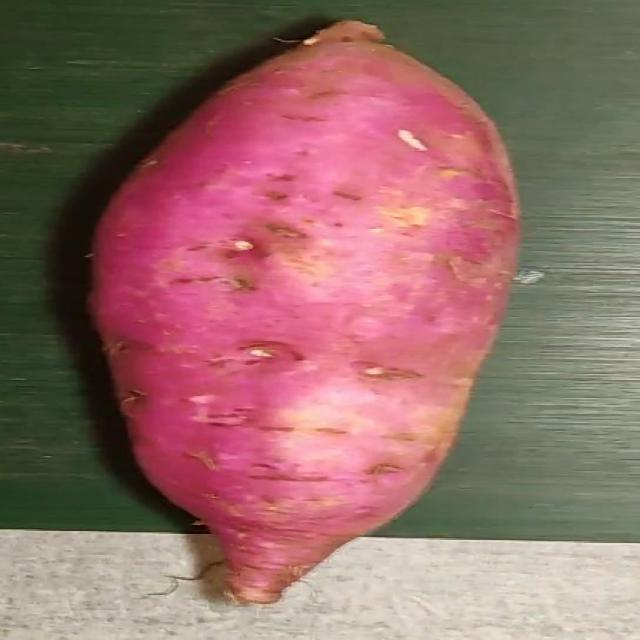Sweet Potato: (94, 21, 520, 608)
